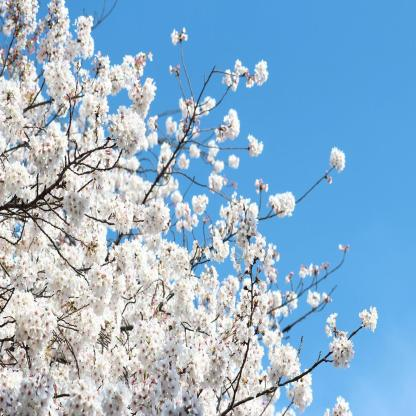Someiyoshino: (1, 2, 388, 415)
